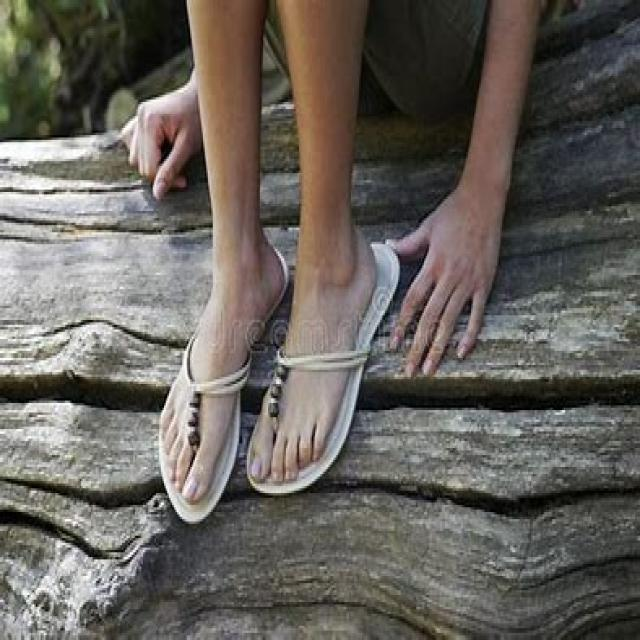No_Shoe: (266, 256, 368, 494), (160, 297, 256, 521)
